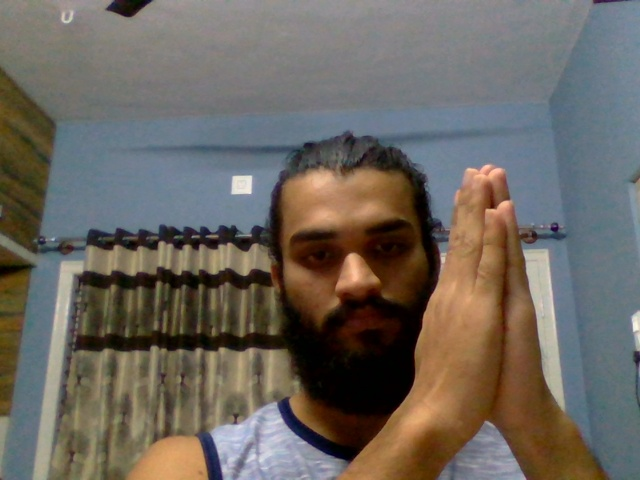ThankYou: (412, 162, 560, 420)
